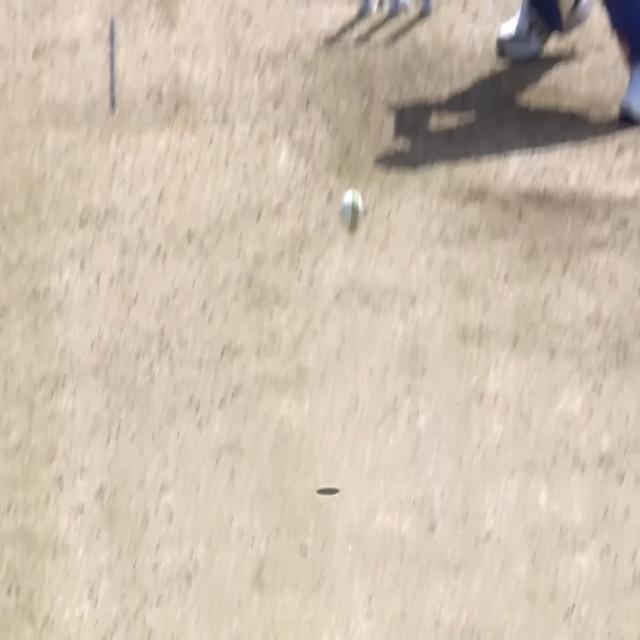ball: (337, 183, 369, 228)
